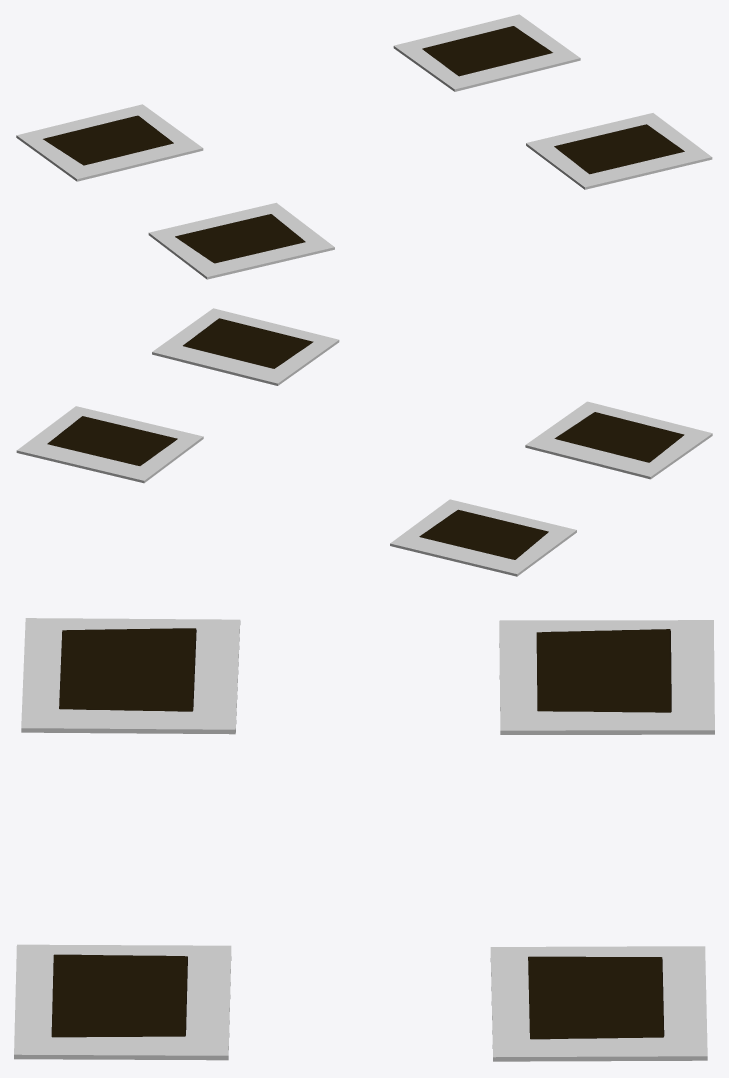
The model's file is SoundMenuPage.fbx.
The picture shows the model from 3 angles, top to bottom: view 1: azimuth 30°, elevation 25°; view 2: azimuth 150°, elevation 25°; view 3: azimuth 270°, elevation 25°; orthographic projection. The views are drawn at different scales.
Parts seen in each view (by area): view 1: highlight_mesh (×4), PaddedQuad_BackingLabel (×4); view 2: highlight_mesh (×4), PaddedQuad_BackingLabel (×4); view 3: highlight_mesh (×4), PaddedQuad_BackingLabel (×4).
Part boxes in pixels (<box>): highlight_mesh (×4): <box>16,14,712,279</box>; PaddedQuad_BackingLabel (×4): <box>43,26,684,263</box>; highlight_mesh (×4): <box>16,308,712,576</box>; PaddedQuad_BackingLabel (×4): <box>47,318,684,559</box>; highlight_mesh (×4): <box>14,618,714,1061</box>; PaddedQuad_BackingLabel (×4): <box>51,628,671,1039</box>.
Bounding box in the file's own units: 0.1493 × 0.00116 × 0.0965.
2 materials, 2 textured.
